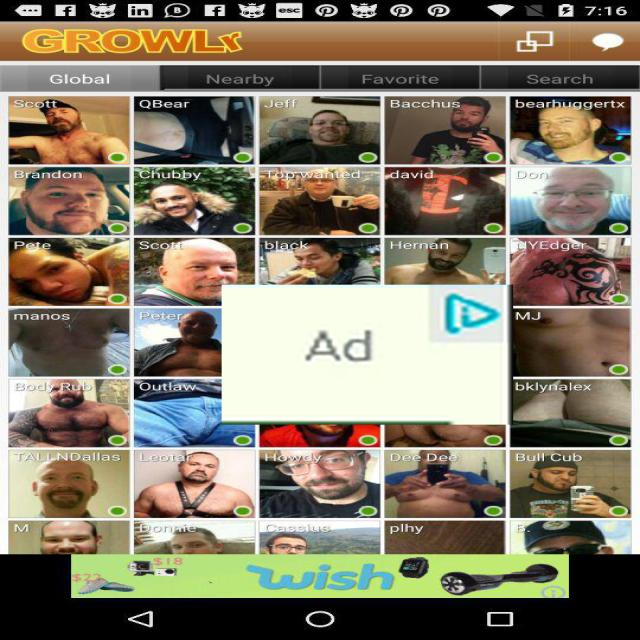sneaking: (222, 284, 513, 424)
